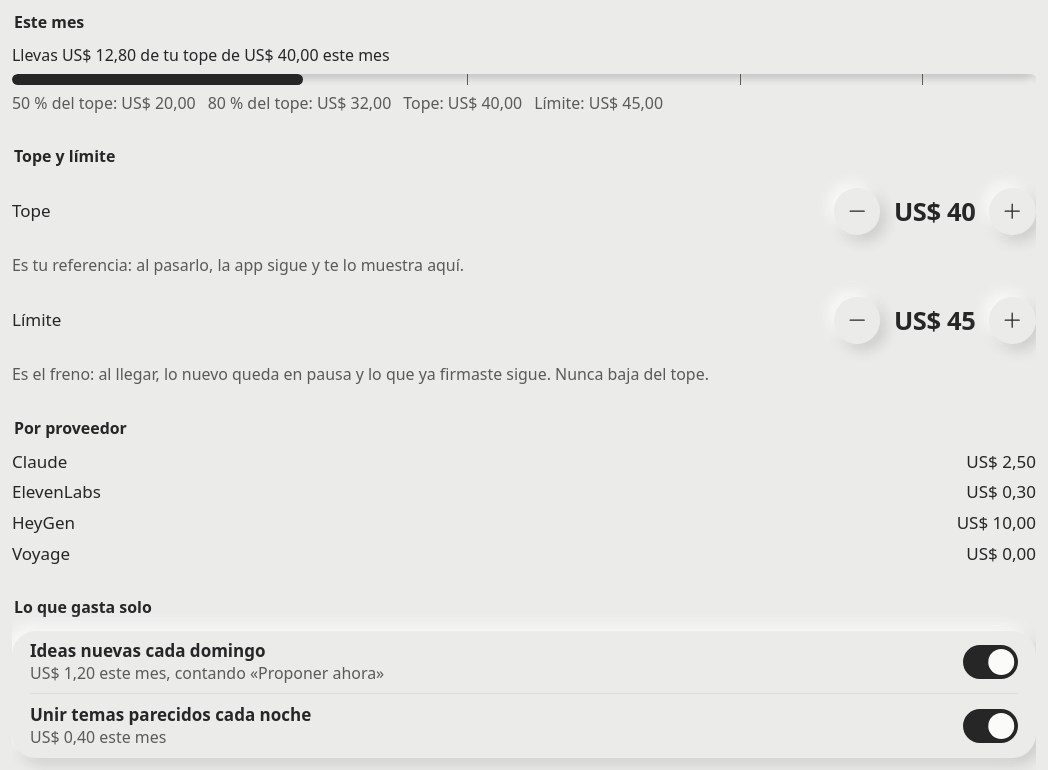
it: PantallaDePresupuesto › offers no Deshacer when raising the cap took back the limit she set
The width and height of the screenshot is (1048, 770).
Click the button named "Subir el tope".
click(1013, 212)  # box [989,188,1036,235]
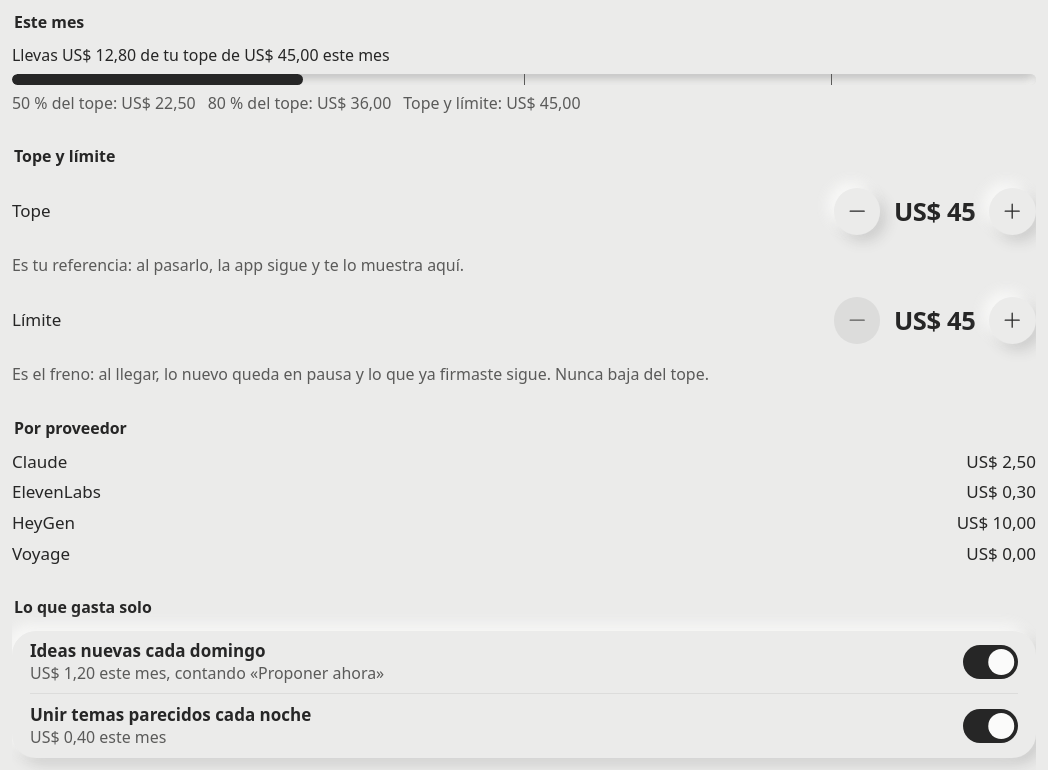
Click the button named "Subir el tope".
click(1013, 212)  # box [989,188,1036,235]
Wait 800 ms
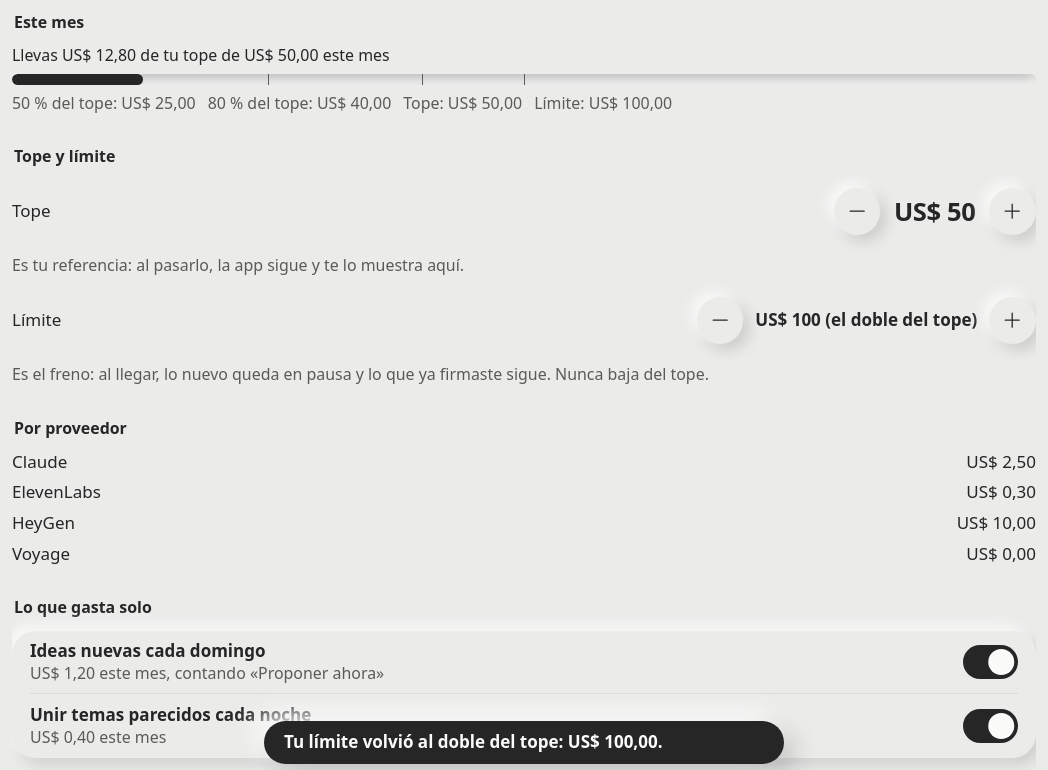
Now the text "Tu límite volvió al doble del tope: US$ 100,00." is shown, box [284,730,662,753]
